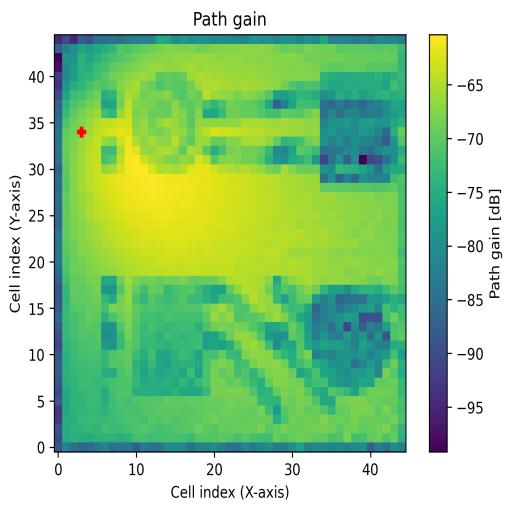Concrete: (320, 70, 397, 183)
Glass: (131, 72, 203, 175)
Metal: (305, 285, 391, 395)
Wood: (132, 275, 211, 395)
